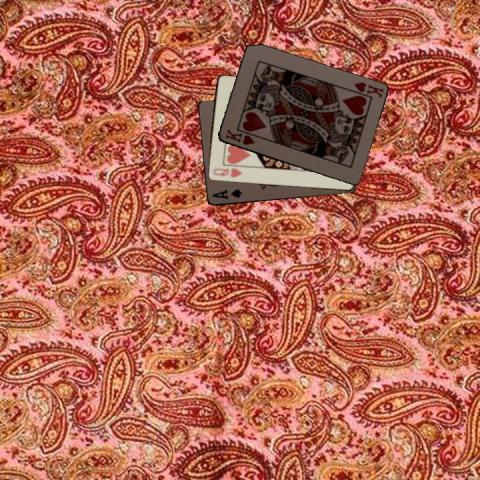As: (209, 186, 243, 201)
Kh: (222, 126, 256, 147), (350, 79, 384, 100)
Qh: (210, 165, 244, 179)
